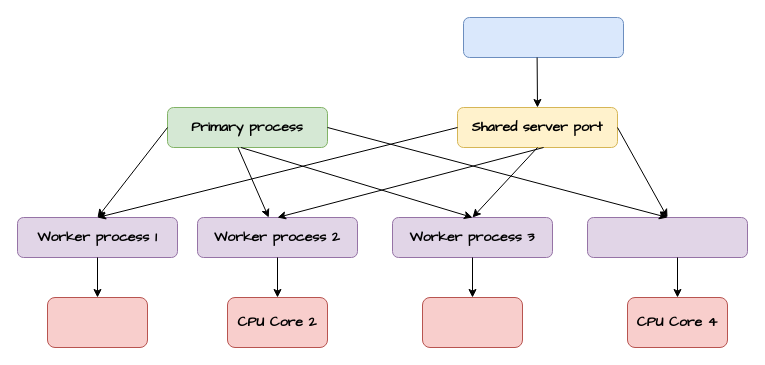
This 765x365 diagram has some shape labels left out. The box of each missing label's shape, as (x1, y1, x2, y2) in pixels:
CPU Core 1: (46, 296, 148, 348)
CPU Core 3: (422, 296, 522, 348)
Incoming requests: (462, 16, 624, 58)
Worker process 4: (586, 216, 748, 258)
